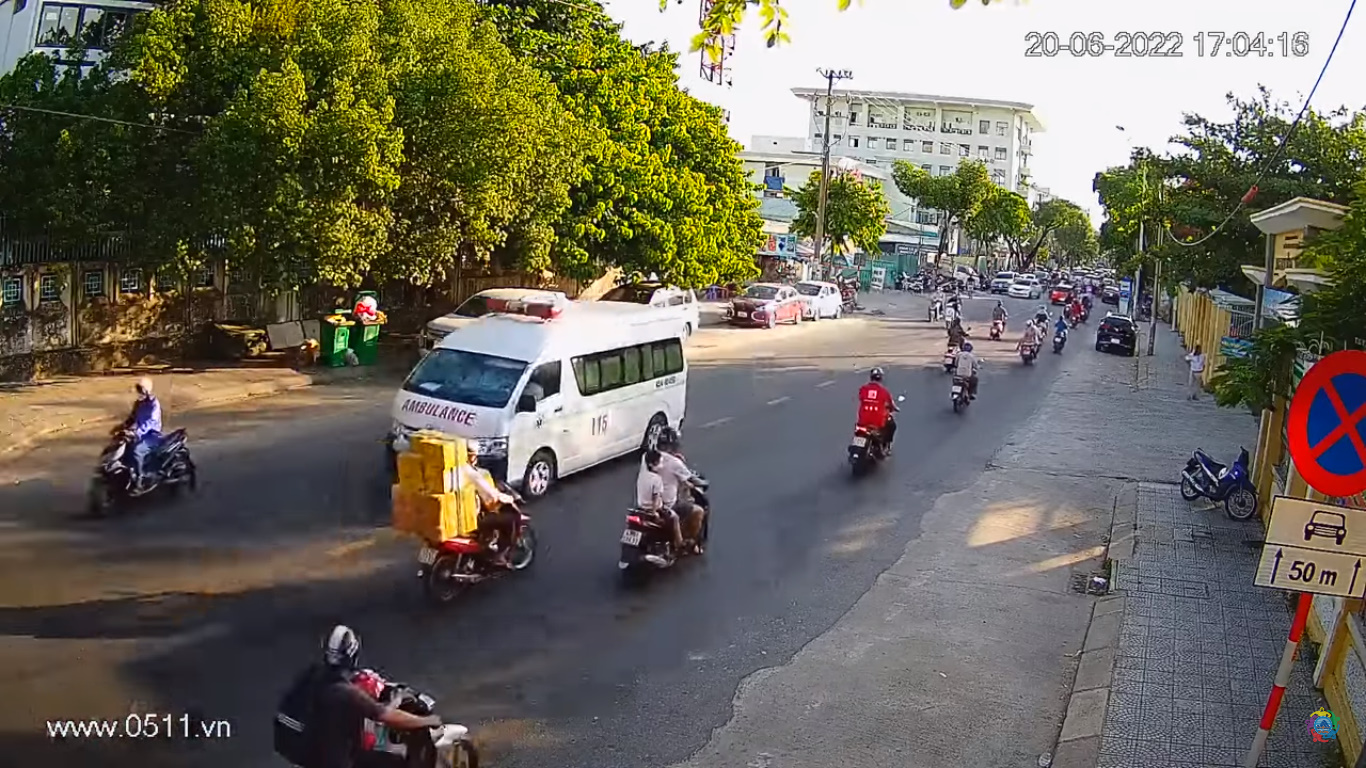car: (384, 313, 696, 499)
